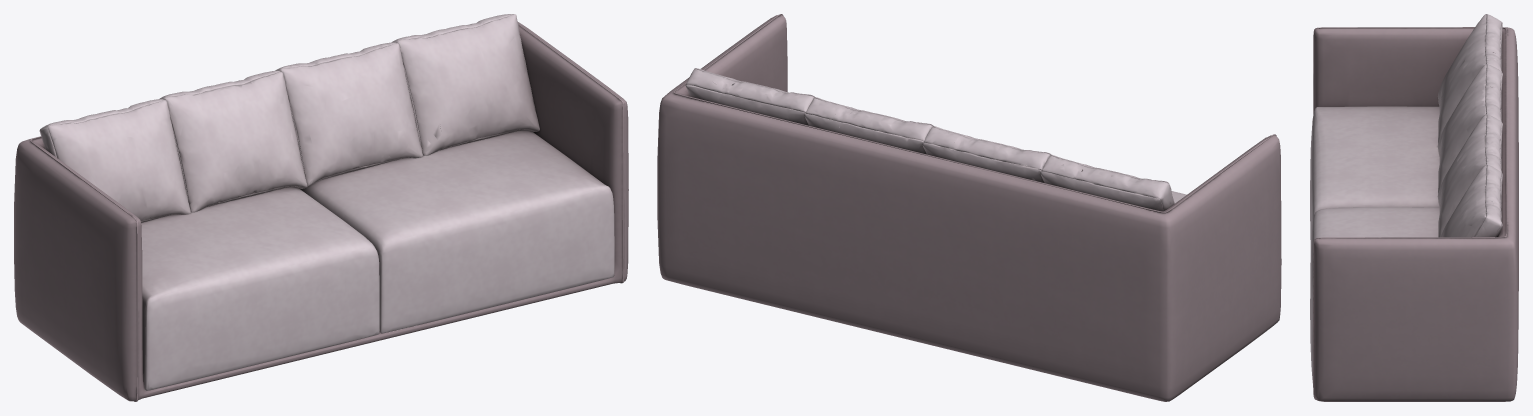
The model's file is raw_model.obj.
3 renders of one model, left to right at view 1: azimuth 30°, elevation 25°; view 2: azimuth 150°, elevation 25°; view 3: azimuth 270°, elevation 25°, orthographic. The views are drawn at different scales.
Visible parts, largest first — view 1: solid_001, solid_002; view 2: solid_002, solid_001; view 3: solid_002, solid_001.
Boxes of the visible parts, x1,y1,x2,y2 form: solid_001: (39, 14, 614, 390); solid_002: (14, 22, 628, 401); solid_002: (657, 14, 1281, 401); solid_001: (685, 68, 1186, 211); solid_002: (1313, 27, 1518, 401); solid_001: (1310, 14, 1502, 382).
Size of the model in its own units: 2.63 by 1 by 1.05.
Materials: 1 (1 with a texture image).
